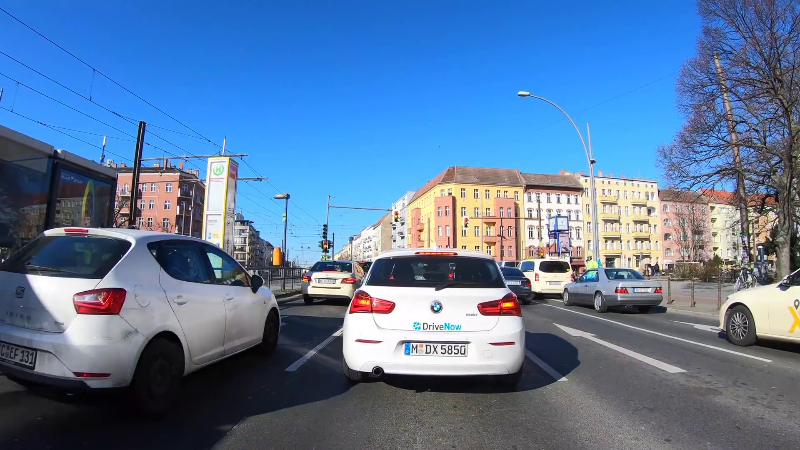Plate: (403, 340, 469, 358), (1, 341, 41, 369), (316, 276, 340, 285), (631, 285, 651, 293), (506, 278, 521, 287), (548, 280, 564, 286)
